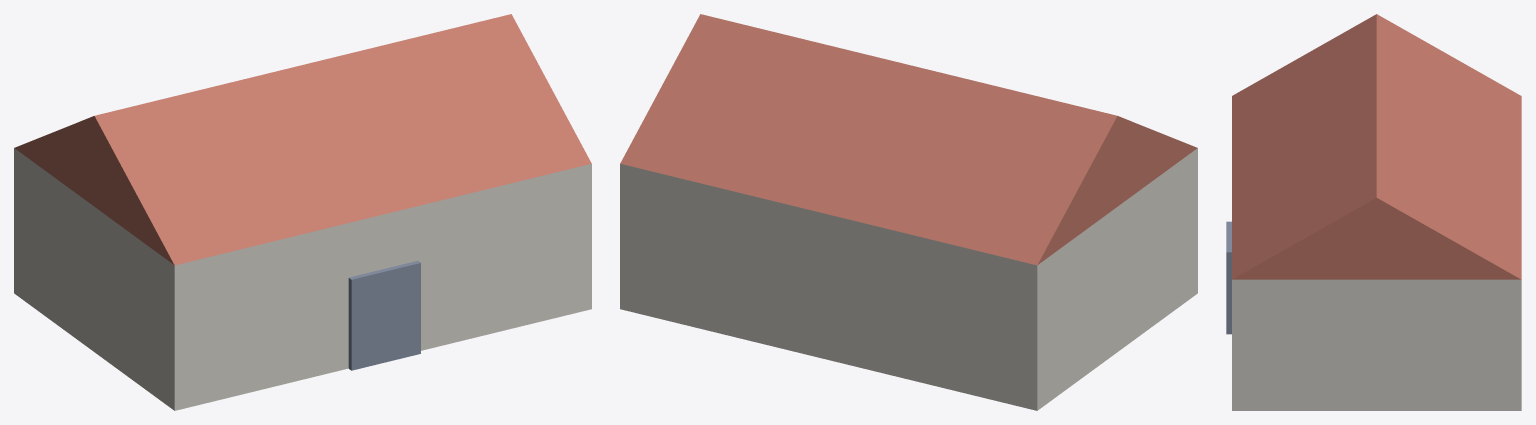
Rendered from house.glb.
3 views of the same model, side by side, from view 1: azimuth 30°, elevation 25°; view 2: azimuth 150°, elevation 25°; view 3: azimuth 270°, elevation 25° (orthographic). The views are drawn at different scales.
Bounding box in the file's own units: 12 × 6.5 × 8.15.
